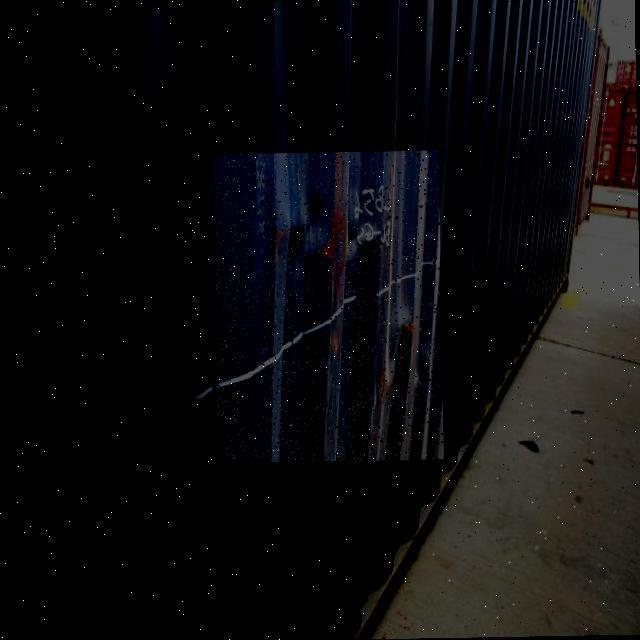Dent: (214, 150, 444, 463)
